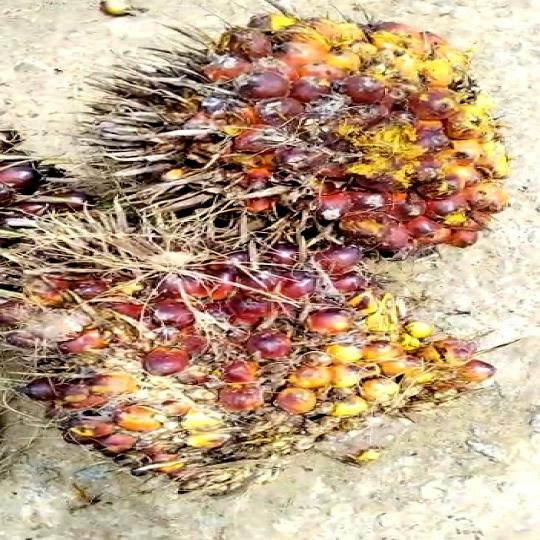masak: (0, 213, 494, 509), (78, 7, 517, 278)
